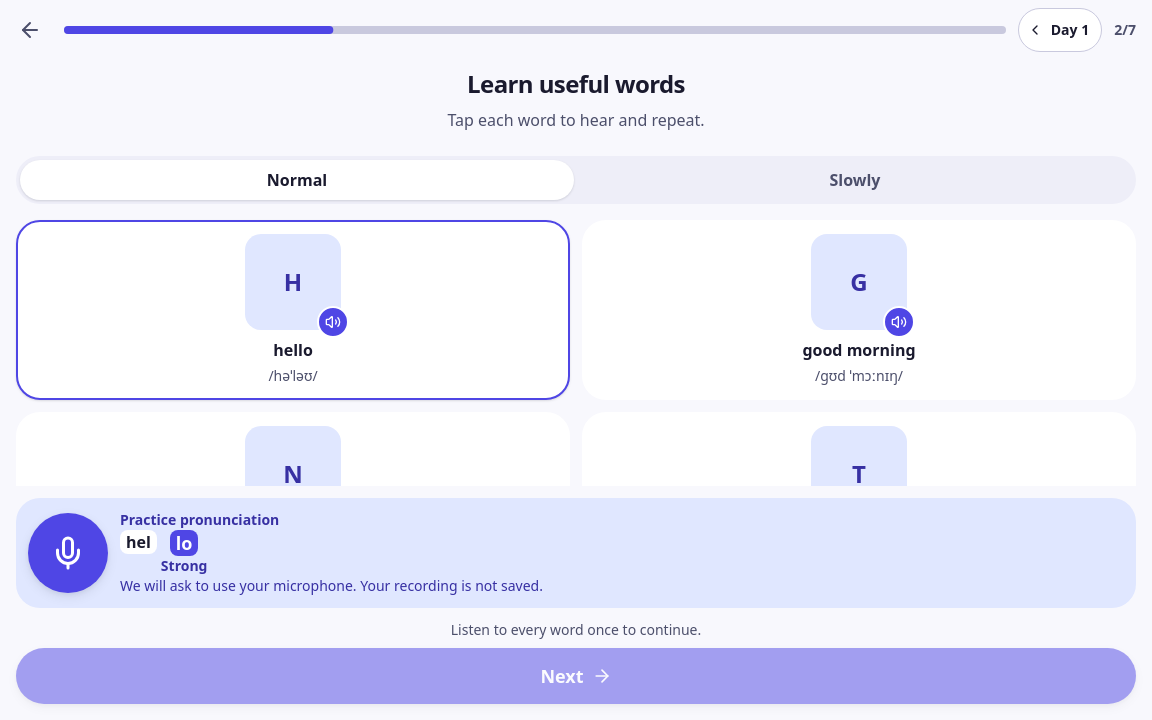
Day 2: Learn useful words › practising the pronunciation › having the recording checked › sends nothing until the learner asks, and says beside the button what asking does
The image size is (1152, 720).
Expected: the button "Check how I said it" is not shown
Click the button named "Tap to speak" at (68, 553), box x1=28 y1=513 x2=108 y2=593
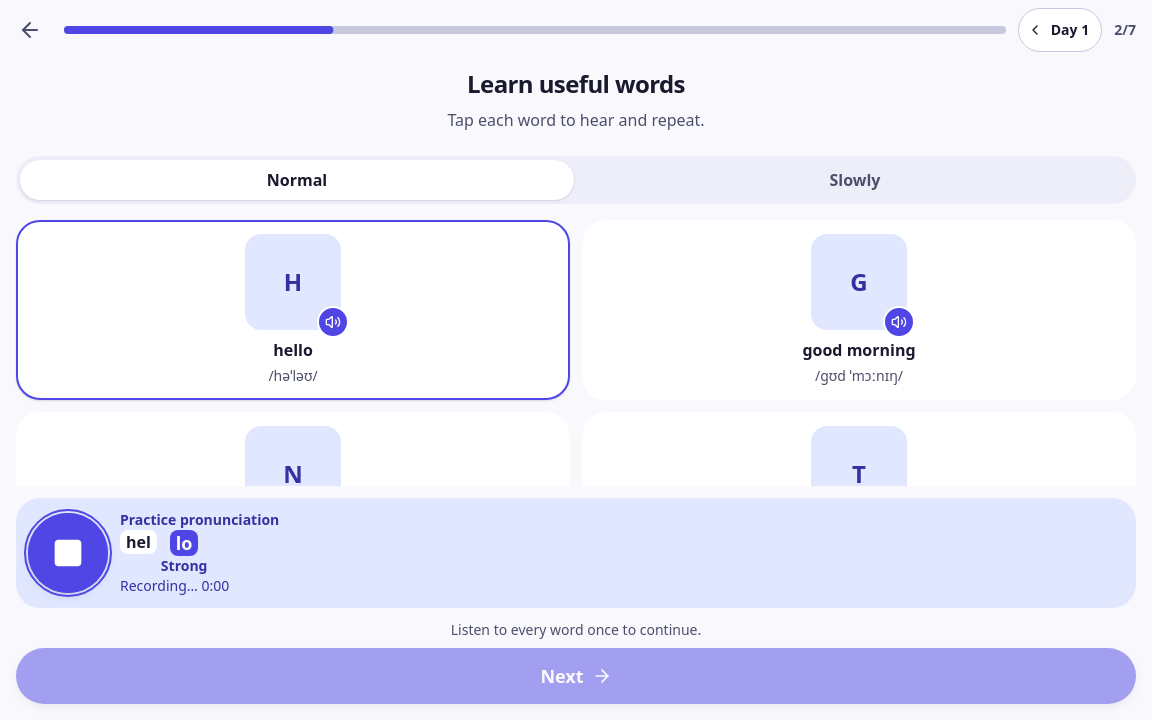
Expected: the text "Recording… 0:00" is shown, x1=120 y1=576 x2=229 y2=595
Click the button named "Stop recording" at (68, 553), box x1=28 y1=513 x2=108 y2=593
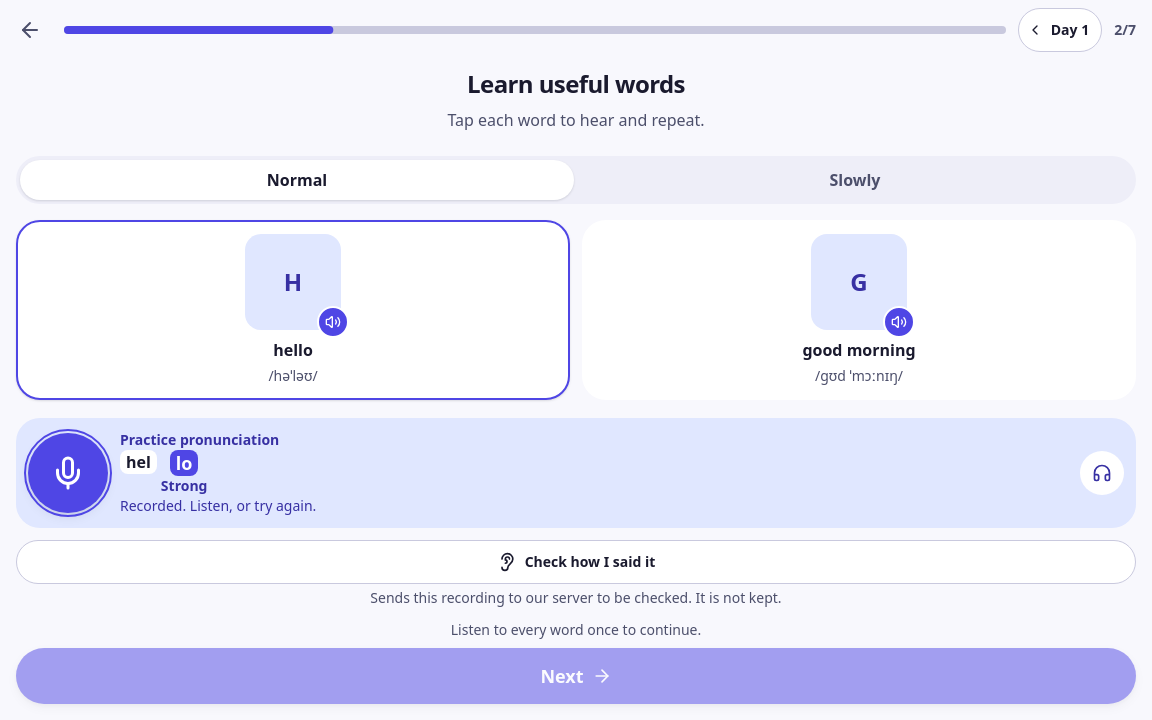
Expected: the text "Recorded. Listen, or try again." is shown, x1=120 y1=496 x2=316 y2=515
Expected: the button "Check how I said it" is shown
Expected: the text "Sends this recording to our server to be checked. It is not kept." is shown, x1=370 y1=588 x2=782 y2=607
Click the button "Check how I said it" at (576, 562), box x1=16 y1=540 x2=1136 y2=584
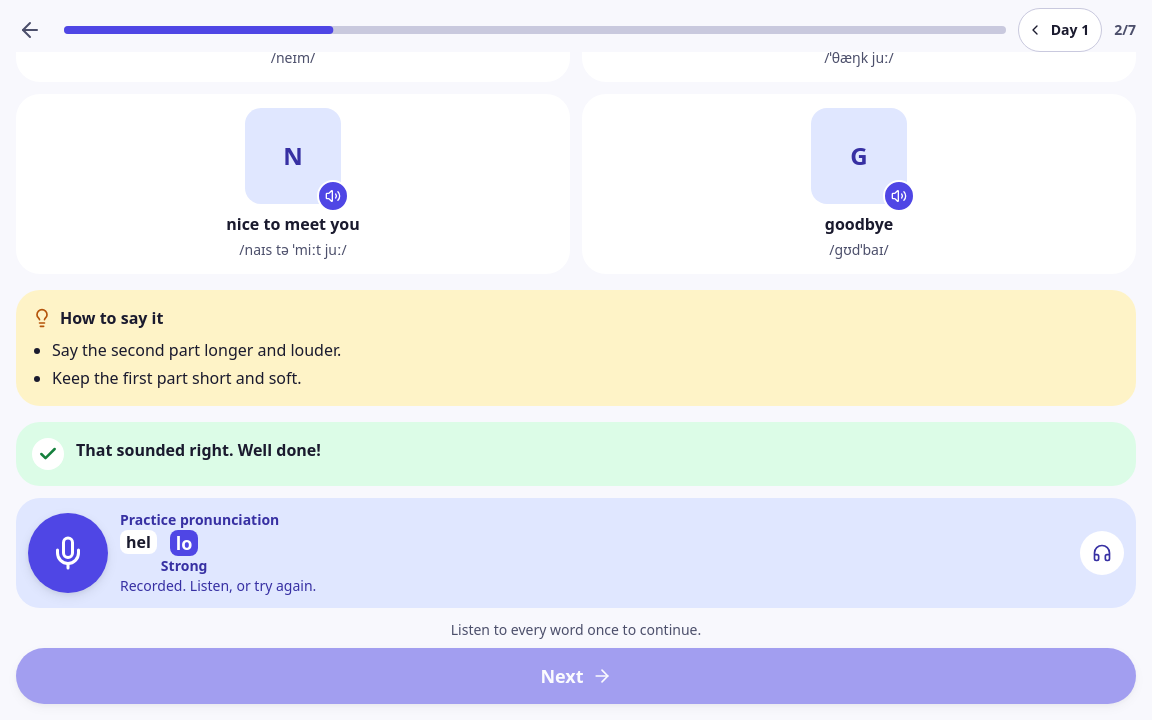
Expected: the element named "How it sounded" does not show "can be wrong", x1=16 y1=422 x2=1136 y2=486
Expected: the element named "How it sounded" reads "That sounded right. Well done!", x1=76 y1=439 x2=321 y2=461
Expected: the button "Check how I said it" is gone
